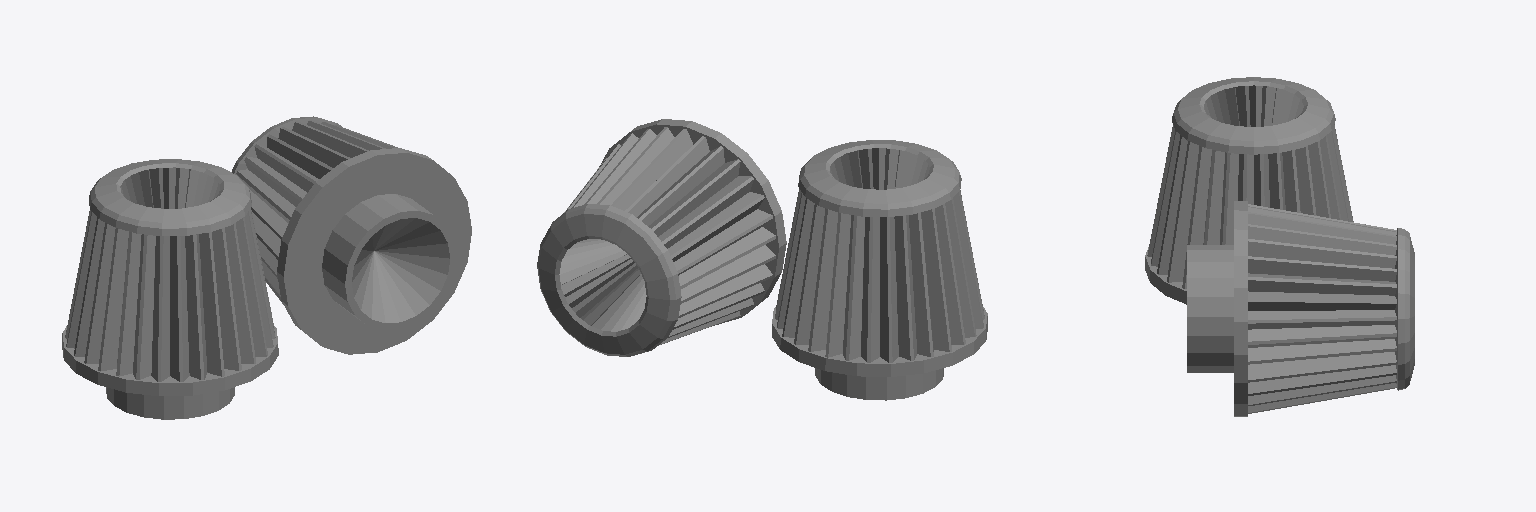
Rendered from air_filter.obj.
The picture shows the model from 3 angles: view 1: azimuth 30°, elevation 25°; view 2: azimuth 150°, elevation 25°; view 3: azimuth 270°, elevation 25°; orthographic projection.
Parts seen in each view (by area): view 1: conical_air_filter001, conical_air_filter; view 2: conical_air_filter001, conical_air_filter; view 3: conical_air_filter, conical_air_filter001.
Boxes of the visible parts, x1,y1,x2,y2 form: conical_air_filter001: [62, 159, 278, 419]; conical_air_filter: [232, 116, 471, 354]; conical_air_filter001: [772, 140, 987, 400]; conical_air_filter: [537, 119, 786, 356]; conical_air_filter: [1187, 201, 1414, 416]; conical_air_filter001: [1145, 77, 1353, 304].
Size of the model in its own units: 25.54 by 13.1 by 15.49.